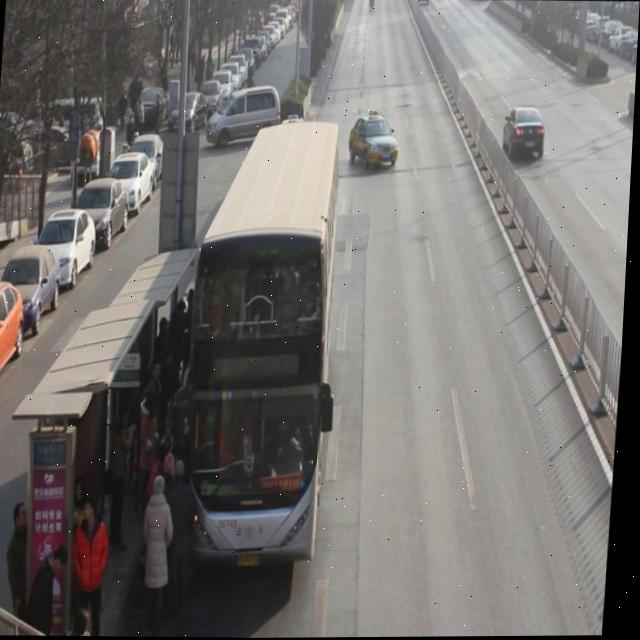car: (348, 115, 402, 172), (502, 106, 549, 162)
truck: (207, 85, 284, 152)
van: (179, 118, 343, 559)
